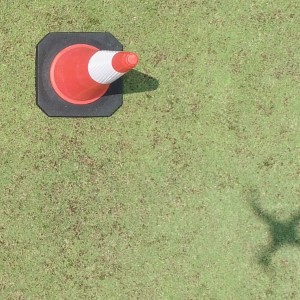traffic cone: (35, 32, 138, 116)
